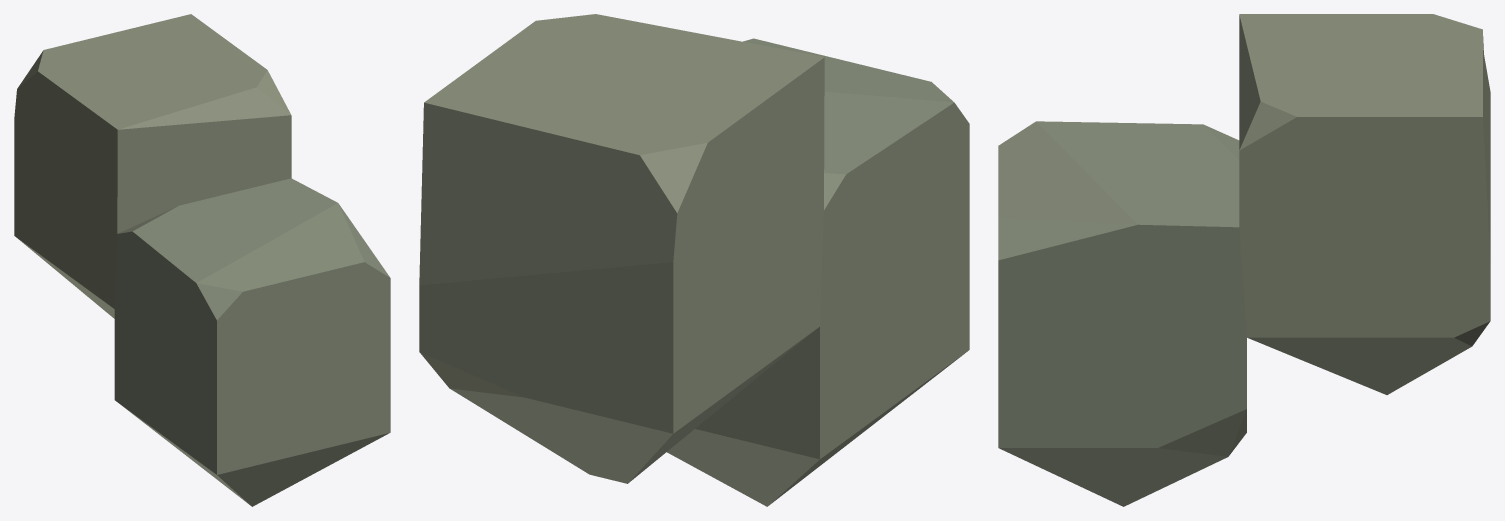
File: stair_long_straight_railing_half_low.fbx
The picture shows the model from 3 angles, left to right: view 1: azimuth 30°, elevation 25°; view 2: azimuth 150°, elevation 25°; view 3: azimuth 270°, elevation 25°; orthographic projection. The views are drawn at different scales.
Visible parts, largest first — view 1: stair_long_straight_railing_half_low; view 2: stair_long_straight_railing_half_low; view 3: stair_long_straight_railing_half_low.
Part boxes in pixels (left/top/right/bottom): stair_long_straight_railing_half_low: left=14, top=14, right=390, bottom=506; stair_long_straight_railing_half_low: left=419, top=14, right=969, bottom=506; stair_long_straight_railing_half_low: left=998, top=14, right=1490, bottom=506.
Size of the model in its own units: 52.95 by 100 by 101.
